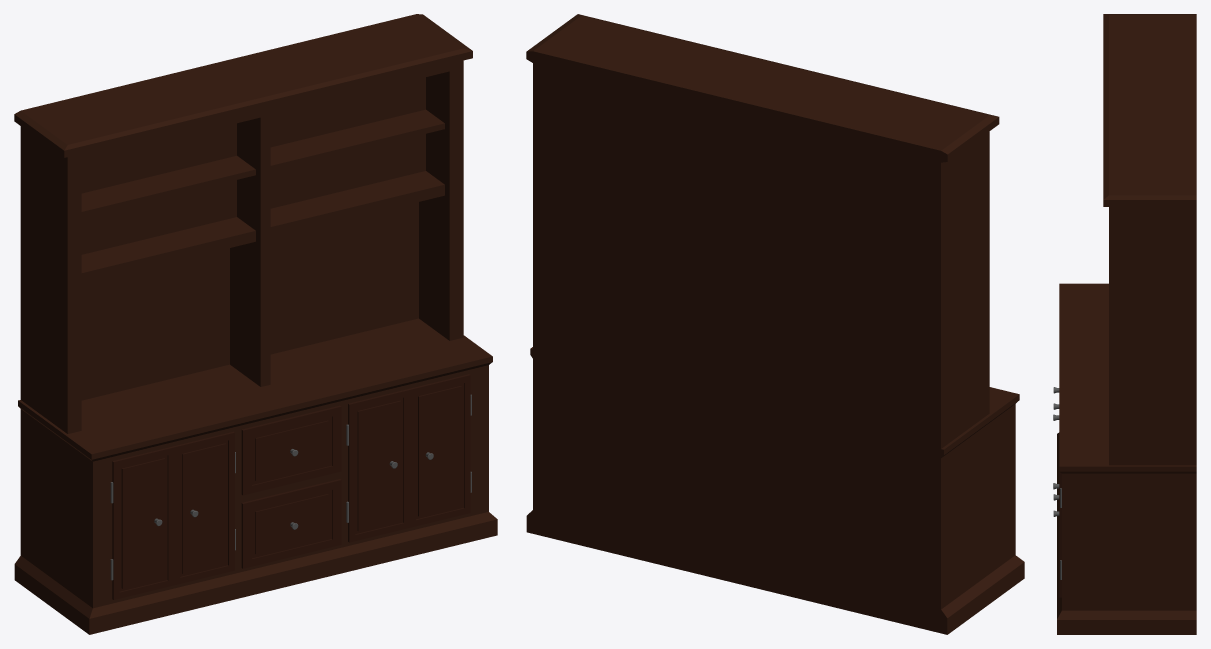
The model's file is Commode_02.fbx.
3 renders of one model, left to right at view 1: azimuth 30°, elevation 25°; view 2: azimuth 150°, elevation 25°; view 3: azimuth 270°, elevation 25°, orthographic. The views are drawn at different scales.
Visible parts, largest first — view 1: Commode_02; view 2: Commode_02; view 3: Commode_02.
Boxes of the visible parts, bbox=[...] form: Commode_02: bbox=[14, 14, 497, 634]; Commode_02: bbox=[526, 14, 1024, 634]; Commode_02: bbox=[1053, 14, 1196, 634].
Bounding box in the file's own units: 256 × 280 × 83.33.
